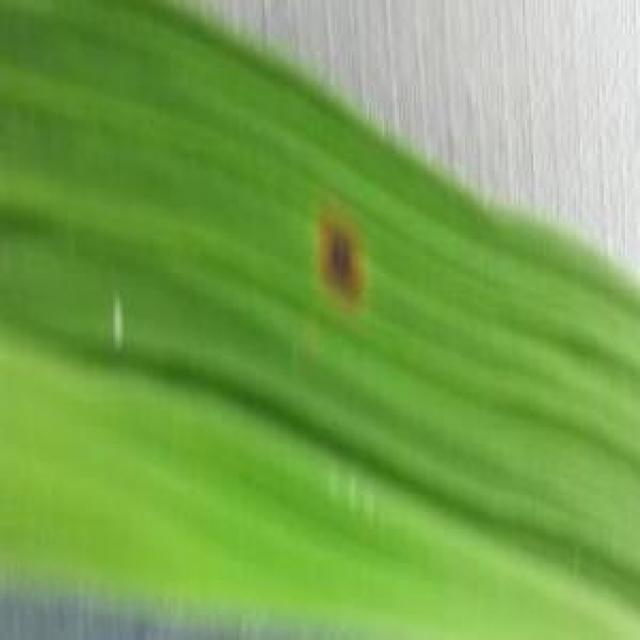brownspots: (298, 218, 374, 284)
